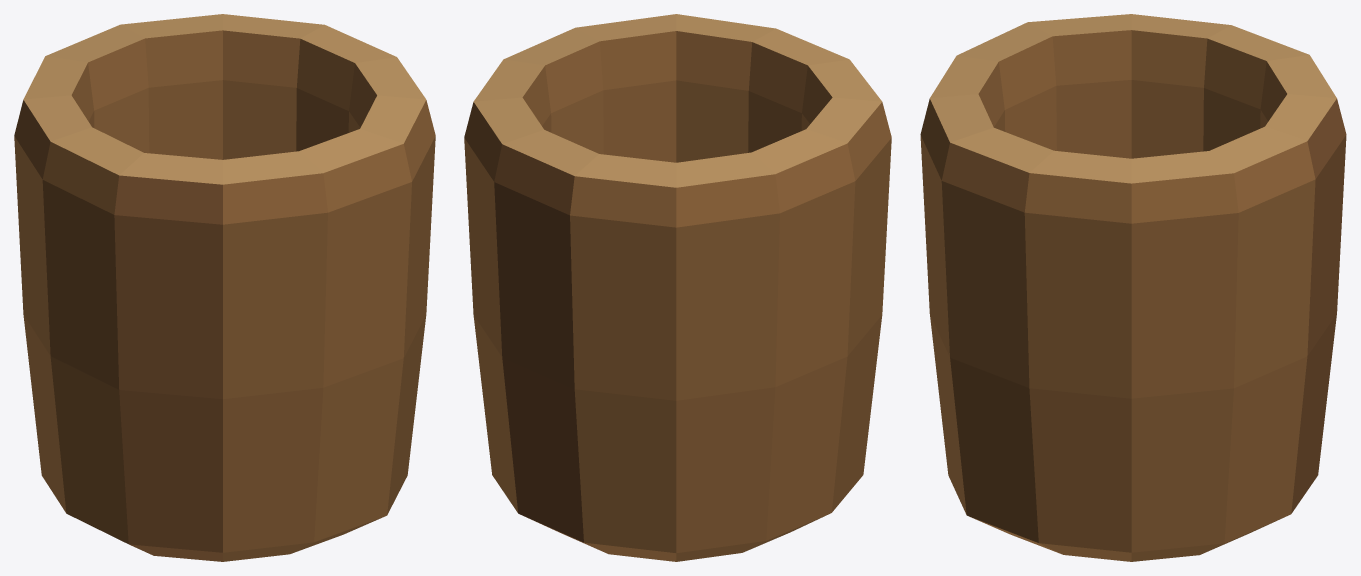
The model's file is cup_wood_01.glb.
3 renders of one model, left to right at view 1: azimuth 30°, elevation 25°; view 2: azimuth 150°, elevation 25°; view 3: azimuth 270°, elevation 25°, orthographic.
Visible parts, largest first — view 1: cup_wood_01__carved_cup; view 2: cup_wood_01__carved_cup; view 3: cup_wood_01__carved_cup.
Part boxes in pixels (left/top/right/bottom): cup_wood_01__carved_cup: left=14, top=14, right=435, bottom=561; cup_wood_01__carved_cup: left=464, top=14, right=891, bottom=561; cup_wood_01__carved_cup: left=920, top=14, right=1346, bottom=561.
Size of the model in its own units: 0.1786 by 0.193 by 0.1813.
